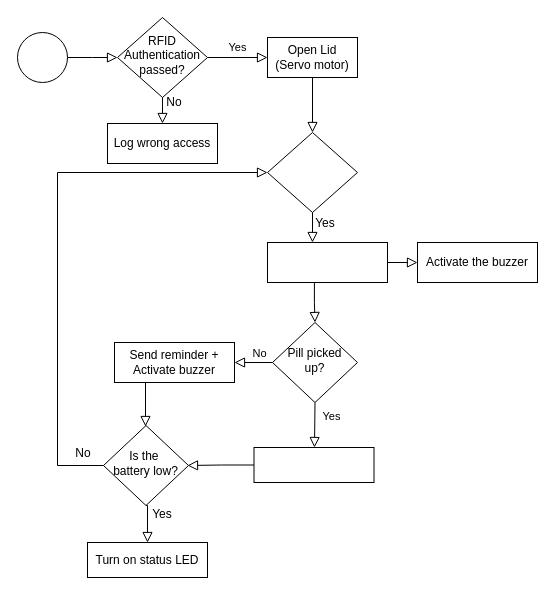
This 555x595 diagram has some shape labels left out. Each missing label, with the box of its shape:
Dispensing action (Stepper Motor): (266, 242, 388, 282)
Log number of pills taken: (253, 446, 374, 482)
START: (16, 32, 68, 82)
Time to dispense?: (266, 132, 358, 212)
